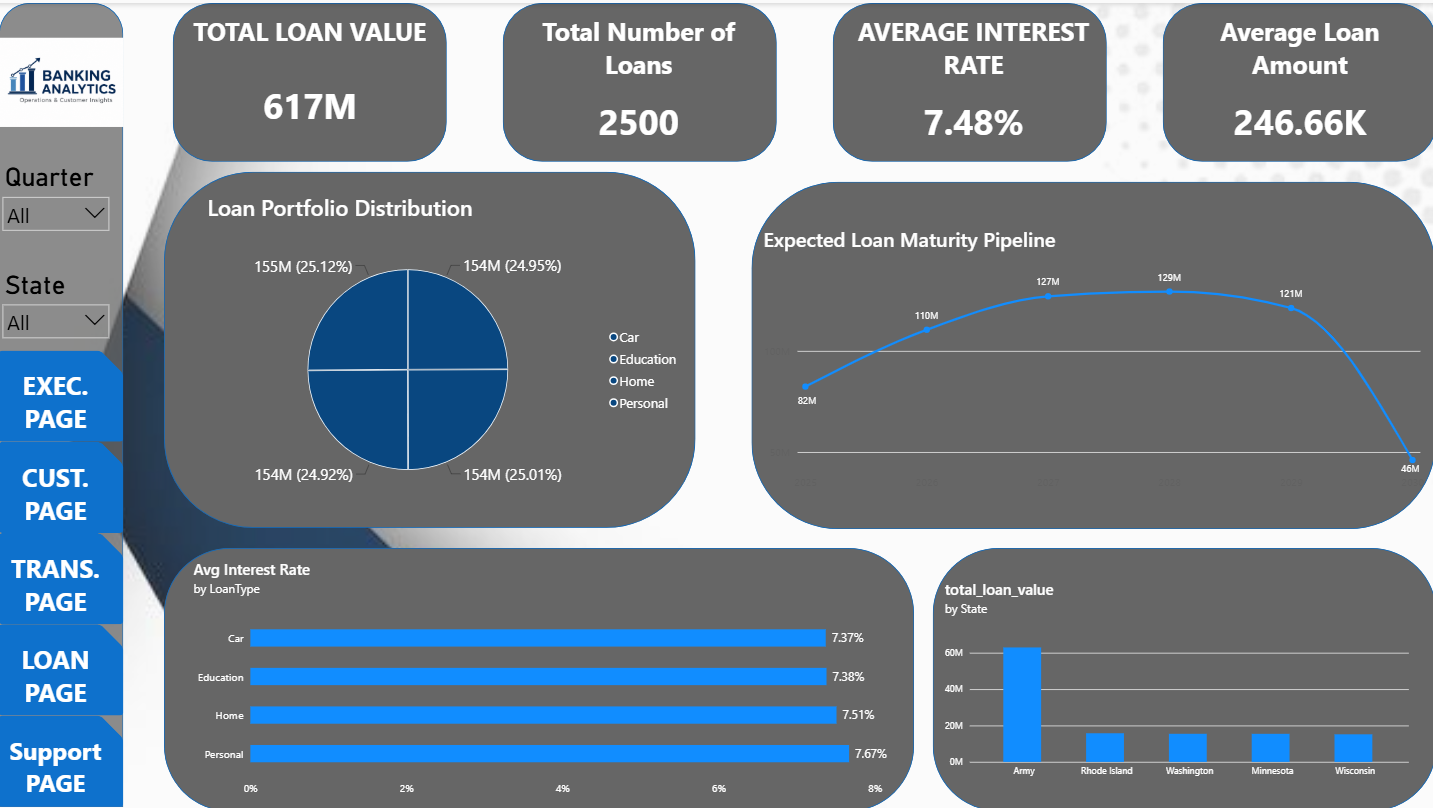

The dashboard page shown, as its layout file describes it:
{"tool":"powerbi","page":{"name":"LOAN ANALYSIS","canvas":[1920,1080],"ordinal":3},"visuals":[{"type":"shape","box":[0,0,166,1074],"z":0},{"type":"shape","box":[1113.3,0,366,212],"z":1000},{"type":"shape","box":[232,0,366,212],"z":2000},{"type":"shape","box":[1006,238,914,464],"z":3000},{"type":"shape","box":[220,728,1002,352],"z":4000},{"type":"shape","box":[220,225.7,710,475.7],"z":5000},{"type":"shape","box":[672.7,0,366,212],"z":6000},{"type":"card","title":"TOTAL LOAN VALUE","fields":{"Values":["Key_Measures.total_loan_value"]},"box":[232,0,366.2,212.5],"z":7000},{"type":"shape","box":[1554,0,366,212],"z":8000},{"type":"slicer","fields":{"Values":["Accounts_Sheet.CreatedDate.Variation.Date Hierarchy.Quarter"]},"box":[0,212,152,184],"z":9000},{"type":"slicer","fields":{"Values":["customers_cleaned.State"]},"box":[0,356,152,122],"z":10000},{"type":"card","title":"Total Number of Loans","fields":{"Values":["Key_Measures.TOTAL_LOANS_ISSUED"]},"box":[672,0,366.2,212.5],"z":11000},{"type":"lineChart","title":"Expected Loan Maturity Pipeline","fields":{"Category":["Loans_Sheet.LoanEndDate.Variation.Date Hierarchy.Year","Loans_Sheet.LoanEndDate.Variation.Date Hierarchy.Quarter"],"Y":["Key_Measures.total_loan_value"]},"box":[1005,281.7,915,388.3],"z":12000},{"type":"clusteredBarChart","fields":{"Category":["Loans_Sheet.LoanType"],"Y":["Key_Measures.Avg Interest Rate"]},"box":[243.8,727.5,968.8,352.5],"z":13000},{"type":"image","box":[0,0,166,212],"z":14000},{"type":"pieChart","title":"Loan Portfolio Distribution","fields":{"Category":["Loans_Sheet.LoanType"],"Y":["Key_Measures.total_loan_value"]},"box":[262,238,668,448],"z":15000},{"type":"shape","box":[1246.7,728.3,673.3,351.7],"z":16000},{"type":"clusteredColumnChart","fields":{"Category":["customers_cleaned.State"],"Y":["Key_Measures.total_loan_value"]},"box":[1246.7,754.4,652.2,300],"z":17000},{"type":"actionButton","box":[0,464,166,122],"z":18000},{"type":"actionButton","box":[0,586,166,122],"z":19000},{"type":"actionButton","box":[0,708,166,122],"z":20000},{"type":"card","title":"Average Loan Amount","fields":{"Values":["Key_Measures.Avg Loan Amount"]},"box":[1554,0,366.2,212.5],"z":21000},{"type":"actionButton","box":[0,830,166,122],"z":22000},{"type":"card","title":"AVERAGE INTEREST RATE","fields":{"Values":["Key_Measures.Avg Interest Rate"]},"box":[1118,0,366.2,212.5],"z":23000},{"type":"actionButton","box":[0,952,166,122],"z":24000}]}

Visuals, with their boxes in screenshot pixels (x1, y1, x2, y2), scaled from the page's 1920x1080 canvas onto the 1433x808 screenshot:
shape: region(0, 0, 124, 804)
shape: region(831, 0, 1104, 159)
shape: region(173, 0, 446, 159)
shape: region(751, 178, 1432, 525)
shape: region(164, 545, 912, 807)
shape: region(164, 169, 694, 525)
shape: region(502, 0, 775, 159)
"TOTAL LOAN VALUE" card: region(173, 0, 446, 159)
shape: region(1160, 0, 1432, 159)
slicer - Accounts_Sheet.CreatedDate.Variation.Date Hierarchy.Quarter: region(0, 159, 113, 296)
slicer - customers_cleaned.State: region(0, 266, 113, 358)
"Total Number of Loans" card: region(502, 0, 775, 159)
"Expected Loan Maturity Pipeline" lineChart: region(750, 211, 1432, 501)
clusteredBarChart - Loans_Sheet.LoanType x Key_Measures.Avg Interest Rate: region(182, 544, 905, 807)
image: region(0, 0, 124, 159)
"Loan Portfolio Distribution" pieChart: region(196, 178, 694, 513)
shape: region(930, 545, 1432, 807)
clusteredColumnChart - customers_cleaned.State x Key_Measures.total_loan_value: region(930, 564, 1417, 789)
actionButton: region(0, 347, 124, 438)
actionButton: region(0, 438, 124, 530)
actionButton: region(0, 530, 124, 621)
"Average Loan Amount" card: region(1160, 0, 1432, 159)
actionButton: region(0, 621, 124, 712)
"AVERAGE INTEREST RATE" card: region(834, 0, 1108, 159)
actionButton: region(0, 712, 124, 804)
